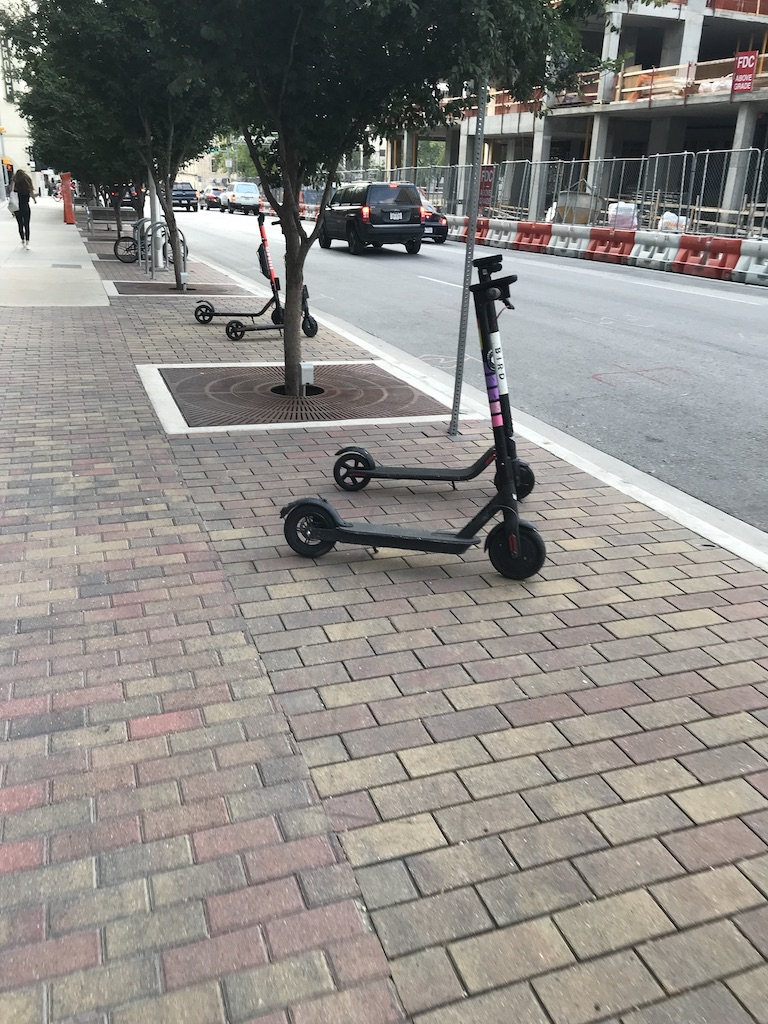scooter: (275, 278, 549, 579), (190, 209, 288, 327), (485, 296, 537, 496), (334, 444, 498, 498), (226, 318, 286, 340), (301, 288, 316, 336), (472, 258, 500, 283)
